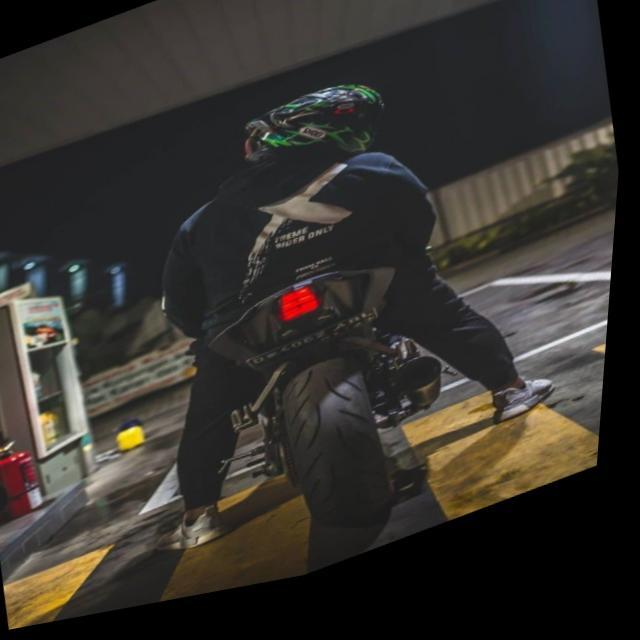Helmet: (227, 67, 395, 177)
